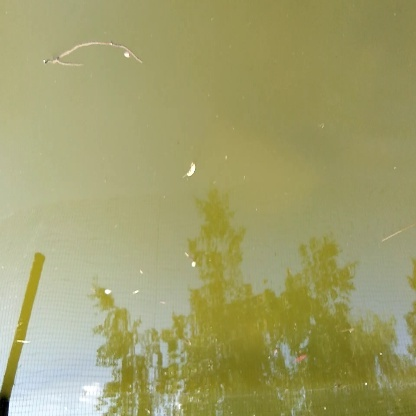branch: (36, 27, 152, 85)
